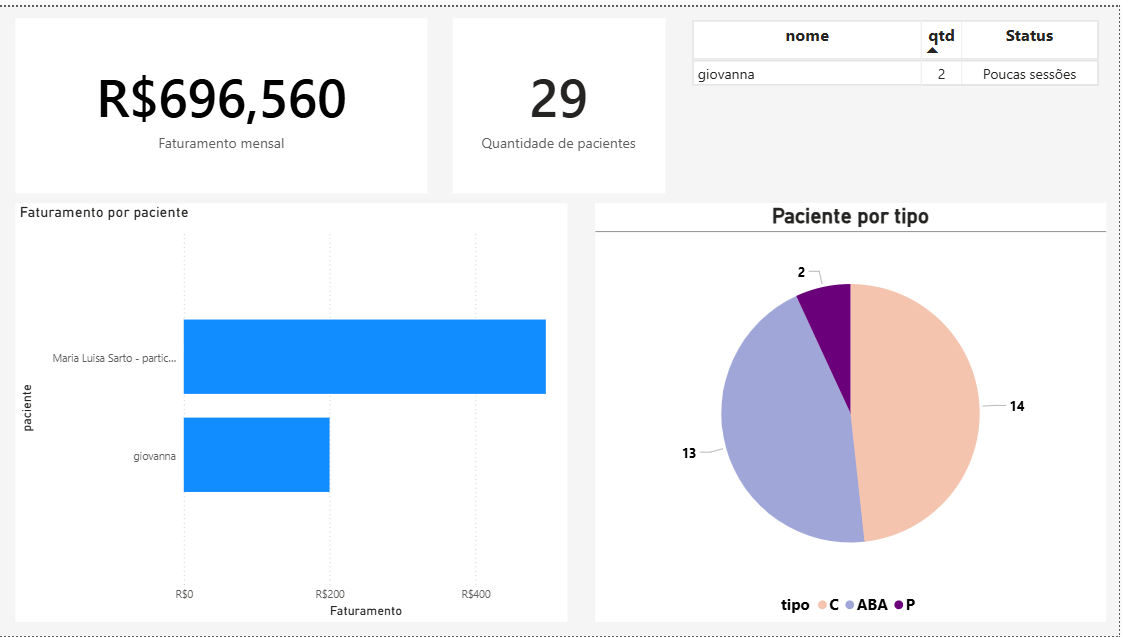

This screenshot's page, from the dashboard's own definition file:
{"tool":"powerbi","page":{"name":"Página 1","canvas":[1280,720],"ordinal":0},"visuals":[{"type":"cardVisual","fields":{"Data":["Página1.Faturamento"]},"box":[18.6,12.9,471.4,200],"z":0},{"type":"barChart","fields":{"Y":["Página1.Faturamento"],"Category":["Página1.nome"]},"box":[18.6,224.3,631.4,478.6],"z":1000},{"type":"pieChart","title":"Paciente por tipo","fields":{"Category":["Página1.tipo"],"Y":["CountNonNull(Página1.nome)"]},"box":[681,223.8,583.8,478.8],"z":2000},{"type":"cardVisual","fields":{"Data":["Count(Página1.nome)"]},"box":[518.6,12.9,242.9,200],"z":3000},{"type":"tableEx","fields":{"Values":["Página1.nome","Sum(Página1.qtd)","Página1.Status"]},"box":[785.7,10,480,195.7],"z":4000}]}

Visuals, with their boxes in screenshot pixels (x1, y1, x2, y2), scaled from the page's 1280x720 canvas onto the 1122x637 screenshot:
cardVisual - Página1.Faturamento: 16/11/430/188
barChart - Página1.Faturamento x Página1.nome: 16/198/570/622
"Paciente por tipo" pieChart: 597/198/1109/622
cardVisual - Count(Página1.nome): 455/11/668/188
tableEx - Página1.nome x Sum(Página1.qtd): 689/9/1109/182
